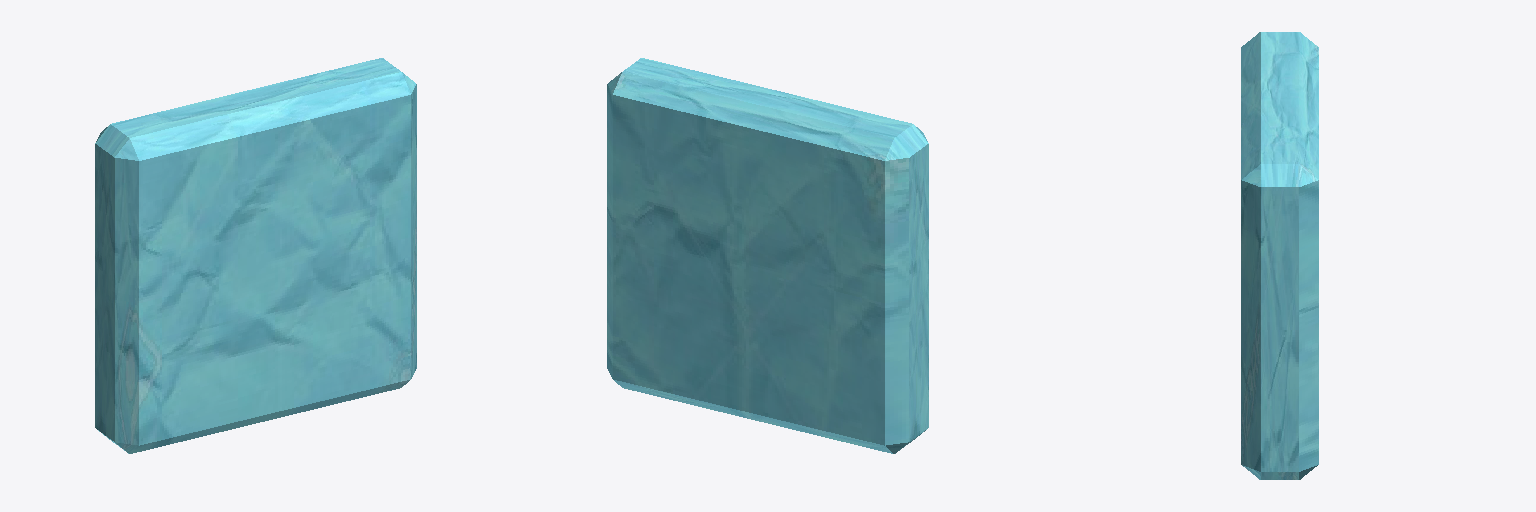
3 renders of one model, left to right at view 1: azimuth 30°, elevation 25°; view 2: azimuth 150°, elevation 25°; view 3: azimuth 270°, elevation 25°, orthographic.
Visible parts, largest first — view 1: pasted__pCube8 group; view 2: pasted__pCube8 group; view 3: pasted__pCube8 group.
Part boxes in pixels (x1,y1,x2,y2): pasted__pCube8 group: (95,58,416,453); pasted__pCube8 group: (607,58,928,453); pasted__pCube8 group: (1241,32,1318,479).
Bounding box in the file's own units: 0.9 × 0.9 × 0.2.
1 materials, 1 textured.